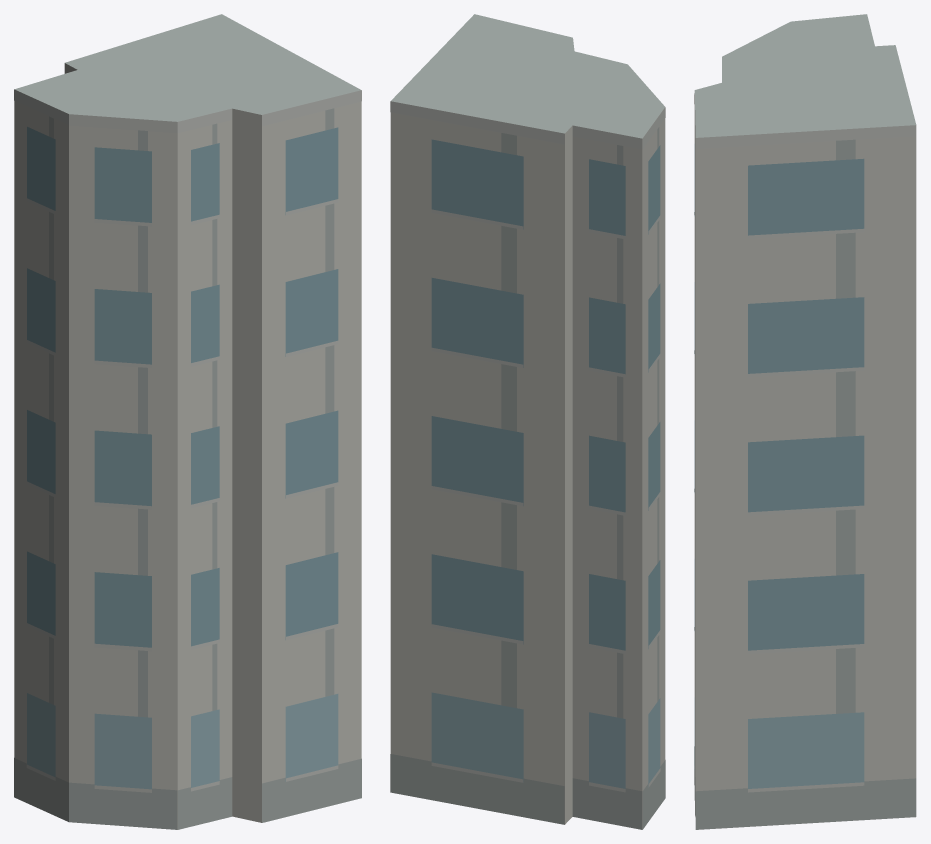
Rendered from survey-upis-32913934.glb.
3 views of the same model, side by side, from view 1: azimuth 30°, elevation 25°; view 2: azimuth 150°, elevation 25°; view 3: azimuth 270°, elevation 25° (orthographic). The views are drawn at different scales.
Parts seen in each view (by area): view 1: survey-upis-32913934.tmp; view 2: survey-upis-32913934.tmp; view 3: survey-upis-32913934.tmp.
Part boxes in pixels (x1,y1,x2,y2): survey-upis-32913934.tmp: (14,14,361,829); survey-upis-32913934.tmp: (390,14,665,829); survey-upis-32913934.tmp: (694,14,916,829).
Size of the model in its own units: 5.87 by 15.25 by 4.44.
